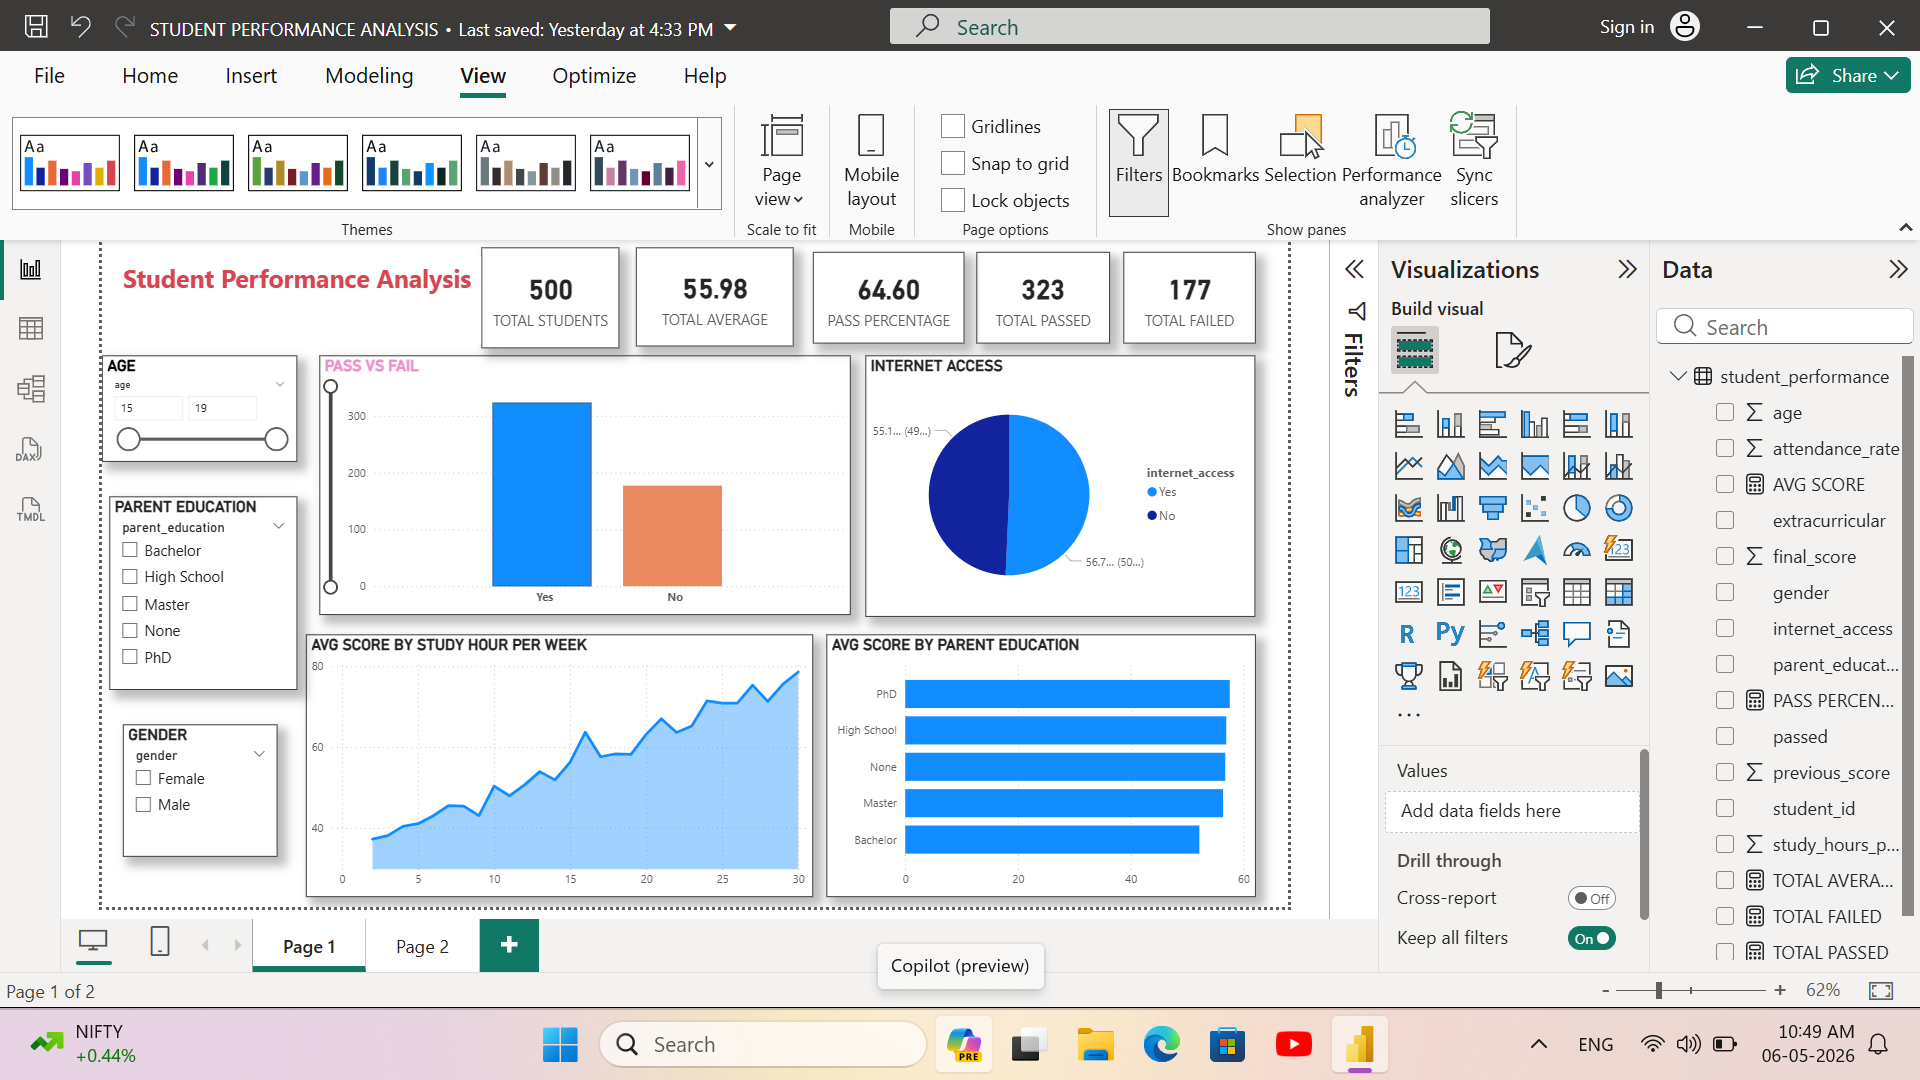

The page's visual inventory and layout, read from the dashboard file:
{"tool":"powerbi","page":{"name":"Page 1","canvas":[1280,720],"ordinal":0},"visuals":[{"type":"columnChart","title":"PASS VS FAIL","fields":{"Category":["student_performance.passed"],"Y":["student_performance.TOTAL STUDENTS"]},"box":[234.8,124.7,573.2,280.1],"z":0},{"type":"card","fields":{"Values":["student_performance.TOTAL STUDENTS"]},"box":[429.1,6.5,147.3,108.5],"z":1000},{"type":"card","fields":{"Values":["student_performance.TOTAL AVERAGE"]},"box":[576.4,11.3,170,100.4],"z":2000},{"type":"card","fields":{"Values":["student_performance.TOTAL PASSED"]},"box":[931.1,13,157.1,105.2],"z":3000},{"type":"card","fields":{"Values":["student_performance.TOTAL FAILED"]},"box":[1088.1,6.5,157.1,110.1],"z":4000},{"type":"card","fields":{"Values":["student_performance.PASS PERCENTAGE"]},"box":[746.5,11.3,184.6,98.8],"z":5000},{"type":"lineChart","fields":{"Category":["student_performance.study_hours_per_week"],"Y":["student_performance.AVG SCORE"]},"box":[220.2,425.9,547.3,283.4],"z":6000},{"type":"pieChart","fields":{"Category":["student_performance.internet_access"],"Y":["student_performance.AVG SCORE"]},"box":[824.2,124.7,421,281.7],"z":7000},{"type":"barChart","fields":{"Category":["student_performance.parent_education"],"Y":["student_performance.AVG SCORE"]},"box":[782.1,425.9,463.1,283.4],"z":8000},{"type":"slicer","fields":{"Values":["student_performance.gender"]},"box":[0,516.5,166.8,87.4],"z":9000},{"type":"slicer","title":"AGE","fields":{"Values":["student_performance.age"]},"box":[0,124.7,210.5,115],"z":10000},{"type":"slicer","fields":{"Values":["student_performance.parent_education"]},"box":[8.1,276.9,202.4,208.9],"z":11000},{"type":"textbox","box":[11.3,17.8,398.3,93.9],"z":12000}]}

Visuals, with their boxes on the page's 1280x720 design canvas (x1, y1, x2, y2). These are canvas units, not pixel positions in the 1920x1080 screenshot, which may show the page scaled, cropped or inside an application window:
"PASS VS FAIL" columnChart: left=235, top=125, right=808, bottom=405
card - student_performance.TOTAL STUDENTS: left=429, top=6, right=576, bottom=115
card - student_performance.TOTAL AVERAGE: left=576, top=11, right=746, bottom=112
card - student_performance.TOTAL PASSED: left=931, top=13, right=1088, bottom=118
card - student_performance.TOTAL FAILED: left=1088, top=6, right=1245, bottom=117
card - student_performance.PASS PERCENTAGE: left=746, top=11, right=931, bottom=110
lineChart - student_performance.study_hours_per_week x student_performance.AVG SCORE: left=220, top=426, right=768, bottom=709
pieChart - student_performance.internet_access x student_performance.AVG SCORE: left=824, top=125, right=1245, bottom=406
barChart - student_performance.parent_education x student_performance.AVG SCORE: left=782, top=426, right=1245, bottom=709
slicer - student_performance.gender: left=0, top=516, right=167, bottom=604
"AGE" slicer: left=0, top=125, right=210, bottom=240
slicer - student_performance.parent_education: left=8, top=277, right=210, bottom=486
textbox: left=11, top=18, right=410, bottom=112
